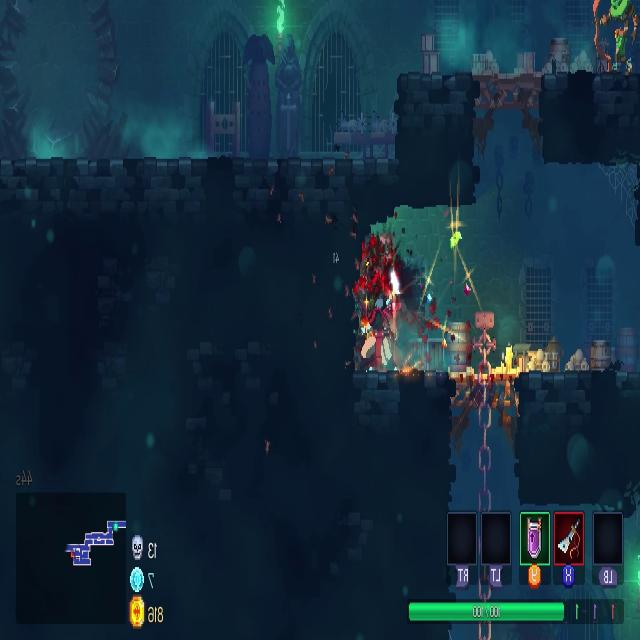agents: (354, 229, 400, 369)
enemy_archer: (594, 0, 640, 71)
